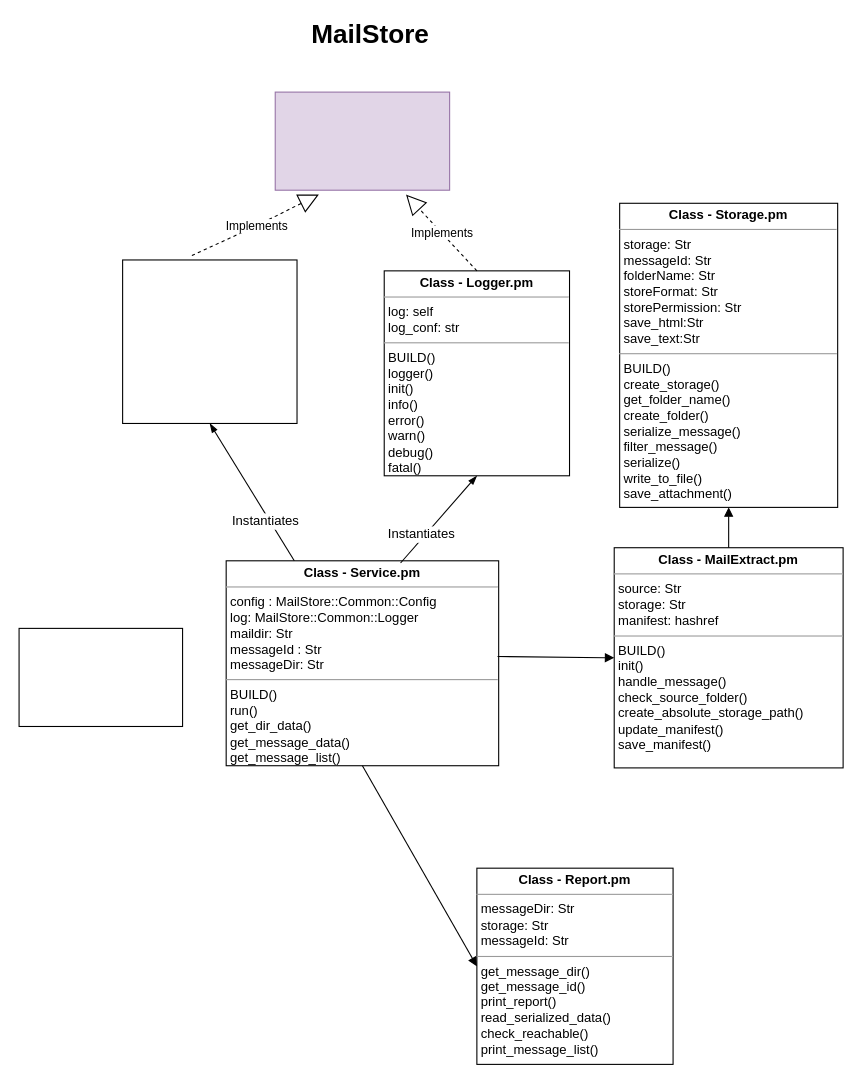
Some shapes in this 862 by 1083 pixel diagram are drawn without their labels. The shapes that lost their labels are listed below. From the top down, each one's centre as x and y in pixels, then its label:
At (x=362, y=140): "<<Interface>> Instance.pm + instance() + existing_singleton()".
At (x=209, y=341): "Class - Config config : self config_file : str BUILD() find() init() getValue()".
At (x=100, y=676): "Class - MailStore.pm version: Num".
